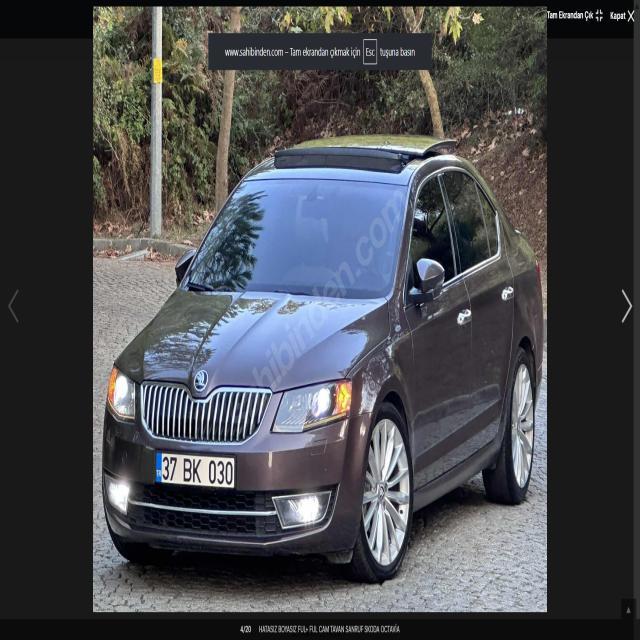skoda: (184, 364, 217, 396)
